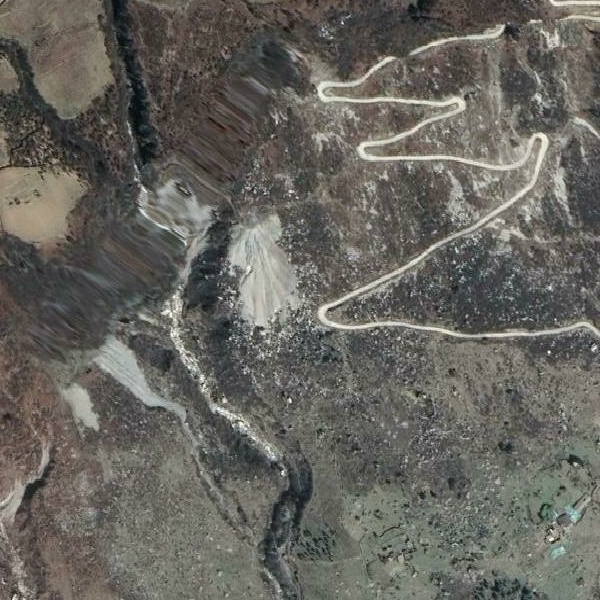slope: (223, 210, 304, 329), (92, 334, 188, 425), (56, 379, 101, 444)
